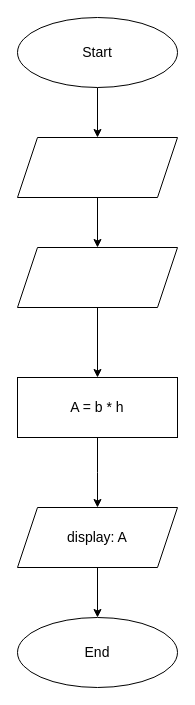
Some shapes in this 195 by 705 pixel diagram are drawn without their labels. The shapes that lost their labels are listed below. From the top down, each one's box as (x1, y1, x2, y2) in pixels, then its label:
(16, 136, 178, 198): read: b
(16, 246, 178, 308): read: h
